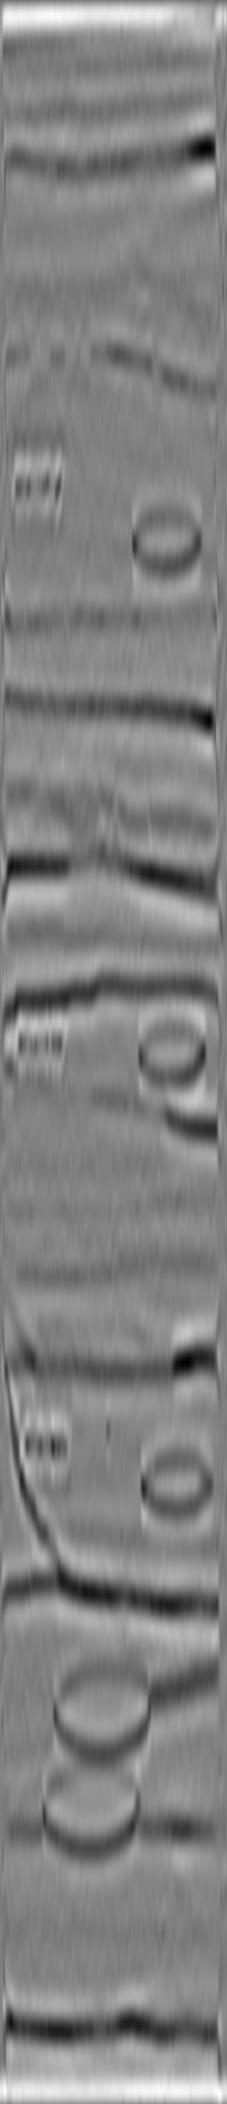hplug: (128, 1438, 212, 1526), (128, 1010, 218, 1090), (128, 496, 210, 578)
scal: (44, 1654, 153, 1759), (40, 1756, 150, 1858)
